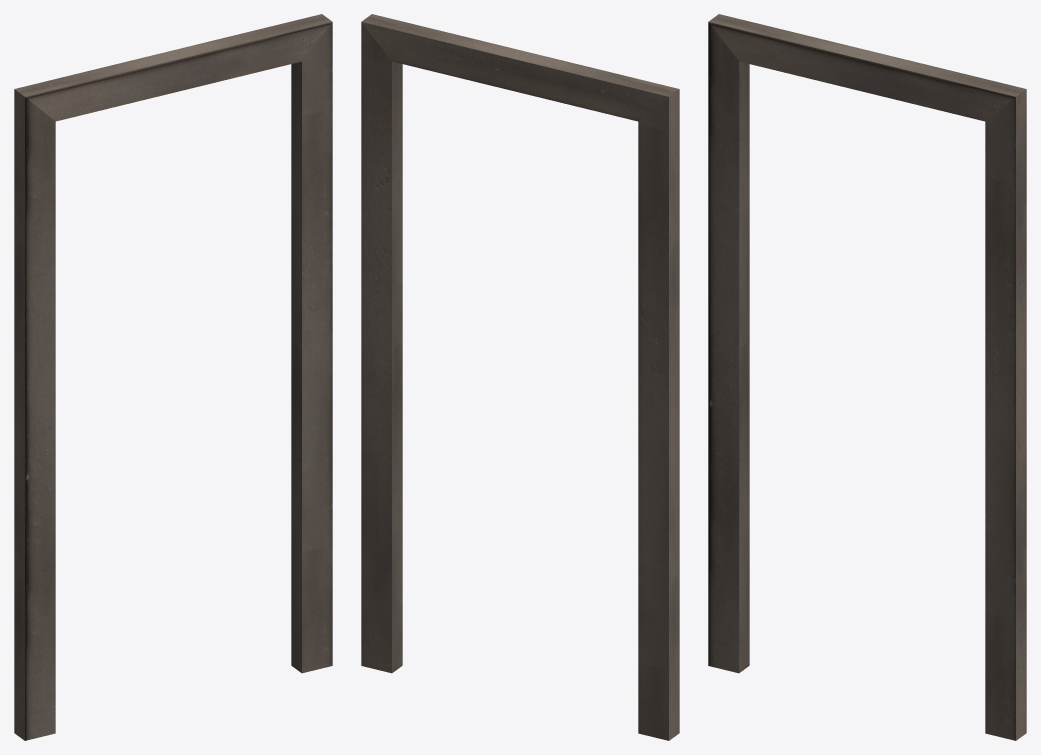
File: door_frame.glb
3 renders of one model, left to right at view 1: azimuth 30°, elevation 25°; view 2: azimuth 150°, elevation 25°; view 3: azimuth 330°, elevation 25°, orthographic.
Visible parts, largest first — view 1: DoorFrame1-col; view 2: DoorFrame1-col; view 3: DoorFrame1-col.
Boxes of the visible parts, bbox=[...] form: DoorFrame1-col: bbox=[14, 14, 332, 740]; DoorFrame1-col: bbox=[361, 14, 679, 740]; DoorFrame1-col: bbox=[708, 14, 1026, 740].
Bounding box in the file's own units: 1 × 2 × 0.06.
1 material, 1 textured.
